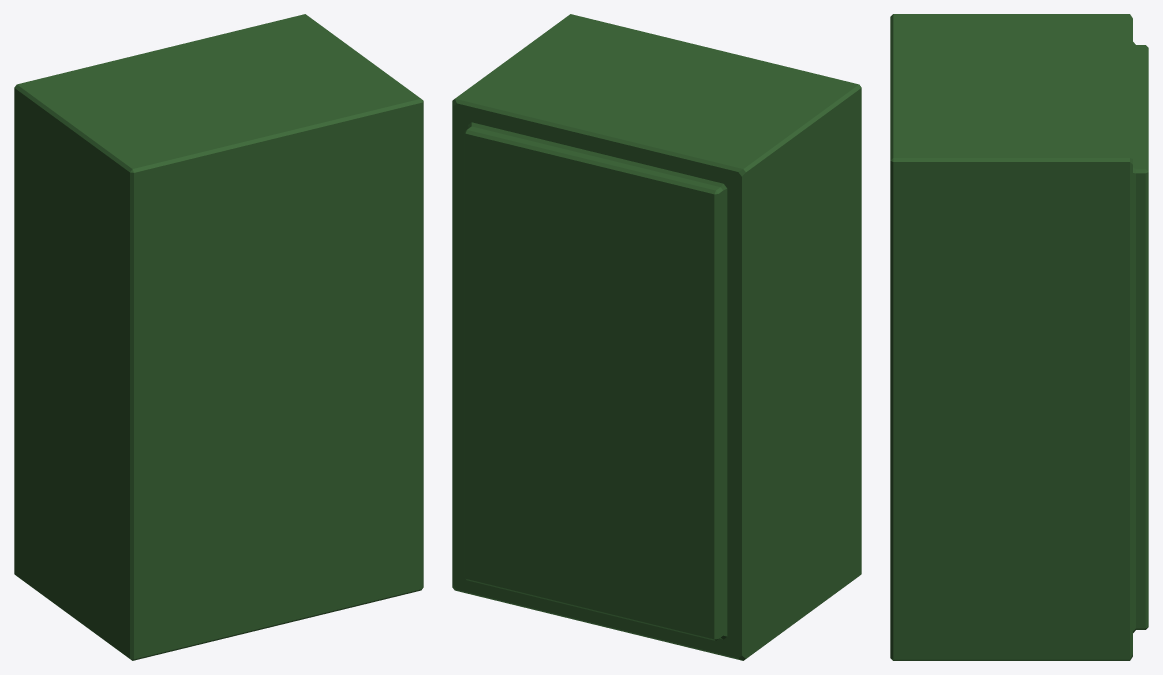
Rendered from electricbox01.fbx.
3 views of the same model, side by side, from view 1: azimuth 30°, elevation 25°; view 2: azimuth 150°, elevation 25°; view 3: azimuth 270°, elevation 25° (orthographic). The views are drawn at different scales.
Parts seen in each view (by area): view 1: electricbox; view 2: electricbox; view 3: electricbox.
Boxes of the visible parts, bbox=[...] form: electricbox: bbox=[14, 14, 423, 660]; electricbox: bbox=[452, 14, 861, 660]; electricbox: bbox=[890, 14, 1148, 660].
Bounding box in the file's own units: 10 × 16 × 7.45.
